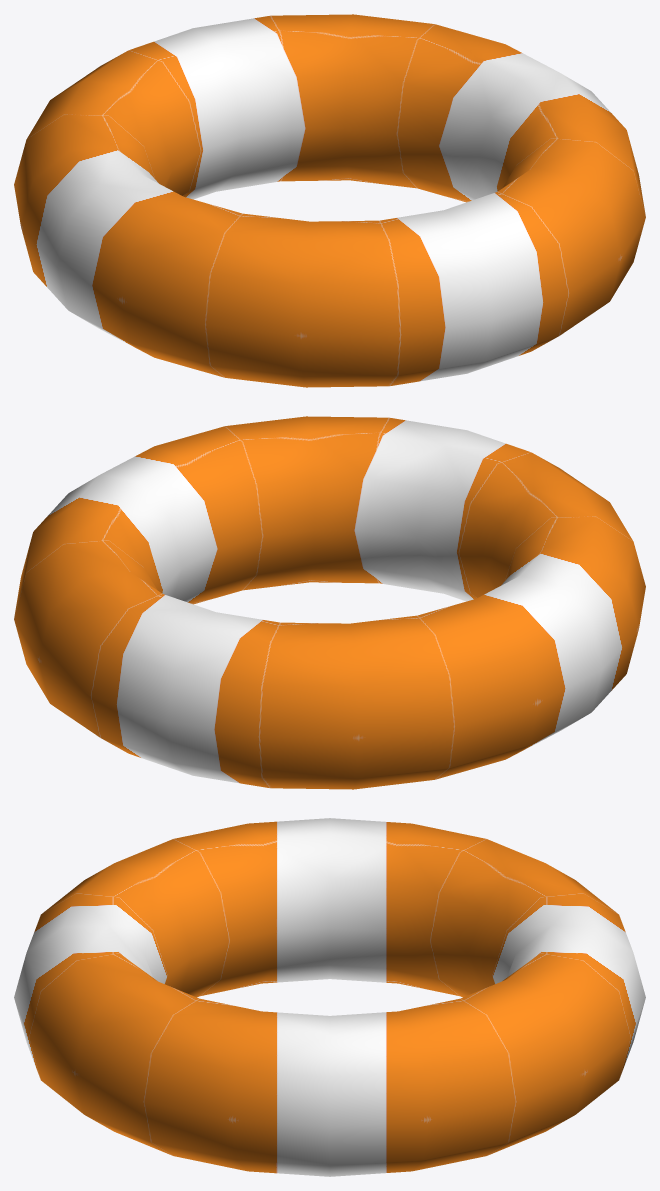
The model's file is salvavidas.fbx.
3 renders of one model, top to bottom at view 1: azimuth 30°, elevation 25°; view 2: azimuth 150°, elevation 25°; view 3: azimuth 270°, elevation 25°, orthographic. The views are drawn at different scales.
Visible parts, largest first — view 1: pTorus1; view 2: pTorus1; view 3: pTorus1.
Boxes of the visible parts, bbox=[...] form: pTorus1: bbox=[14, 14, 645, 387]; pTorus1: bbox=[14, 416, 645, 789]; pTorus1: bbox=[14, 818, 645, 1176].
Bounding box in the file's own units: 5.84 × 1.52 × 6.04.
